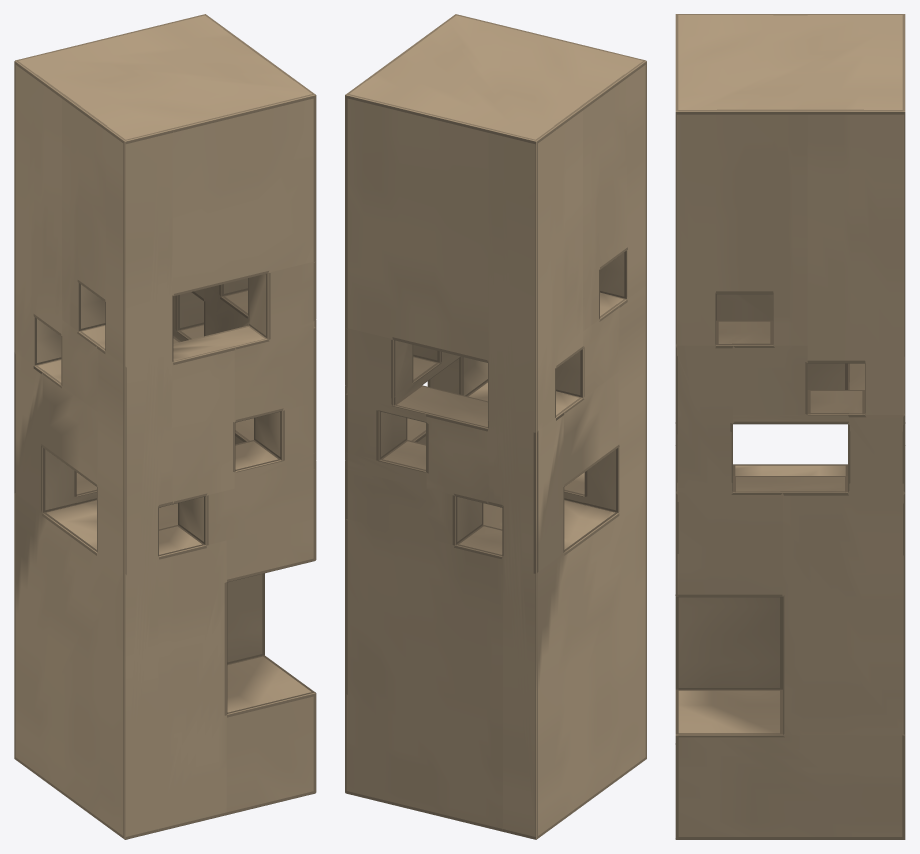
3 renders of one model, left to right at view 1: azimuth 30°, elevation 25°; view 2: azimuth 150°, elevation 25°; view 3: azimuth 270°, elevation 25°, orthographic. The views are drawn at different scales.
Visible parts, largest first — view 1: part-a; view 2: part-a; view 3: part-a.
Part boxes in pixels (x1,y1,x2,y2): part-a: [14, 14, 316, 839]; part-a: [345, 14, 646, 839]; part-a: [675, 14, 905, 839].
Size of the model in its own units: 0.1208 by 0.4208 by 0.1208.
